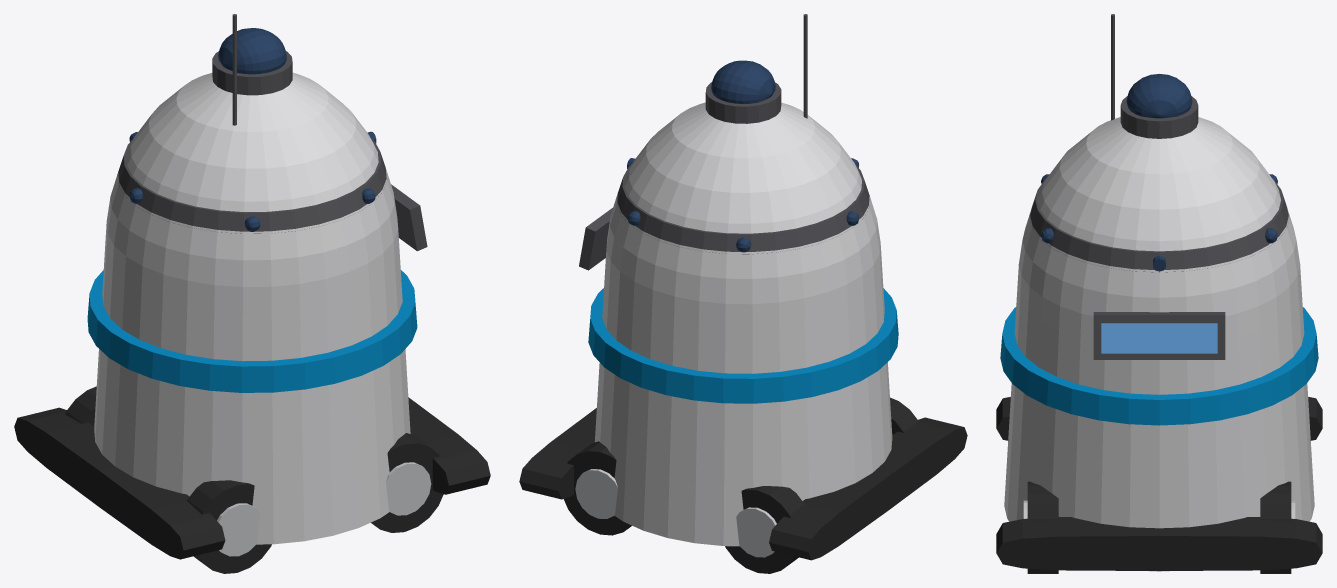
Rendered from SM_Prop_RobotGuard.fbx.
The picture shows the model from 3 angles, left to right: view 1: azimuth 30°, elevation 25°; view 2: azimuth 150°, elevation 25°; view 3: azimuth 270°, elevation 25°; orthographic projection. The views are drawn at different scales.
Parts seen in each view (by area): view 1: SM_Prop_RobotGuard; view 2: SM_Prop_RobotGuard; view 3: SM_Prop_RobotGuard.
Boxes of the visible parts, x1,y1,x2,y2 form: SM_Prop_RobotGuard: (14, 14, 490, 573); SM_Prop_RobotGuard: (519, 14, 967, 573); SM_Prop_RobotGuard: (996, 14, 1322, 573).
Size of the model in its own units: 0.84 by 0.88 by 1.41.
